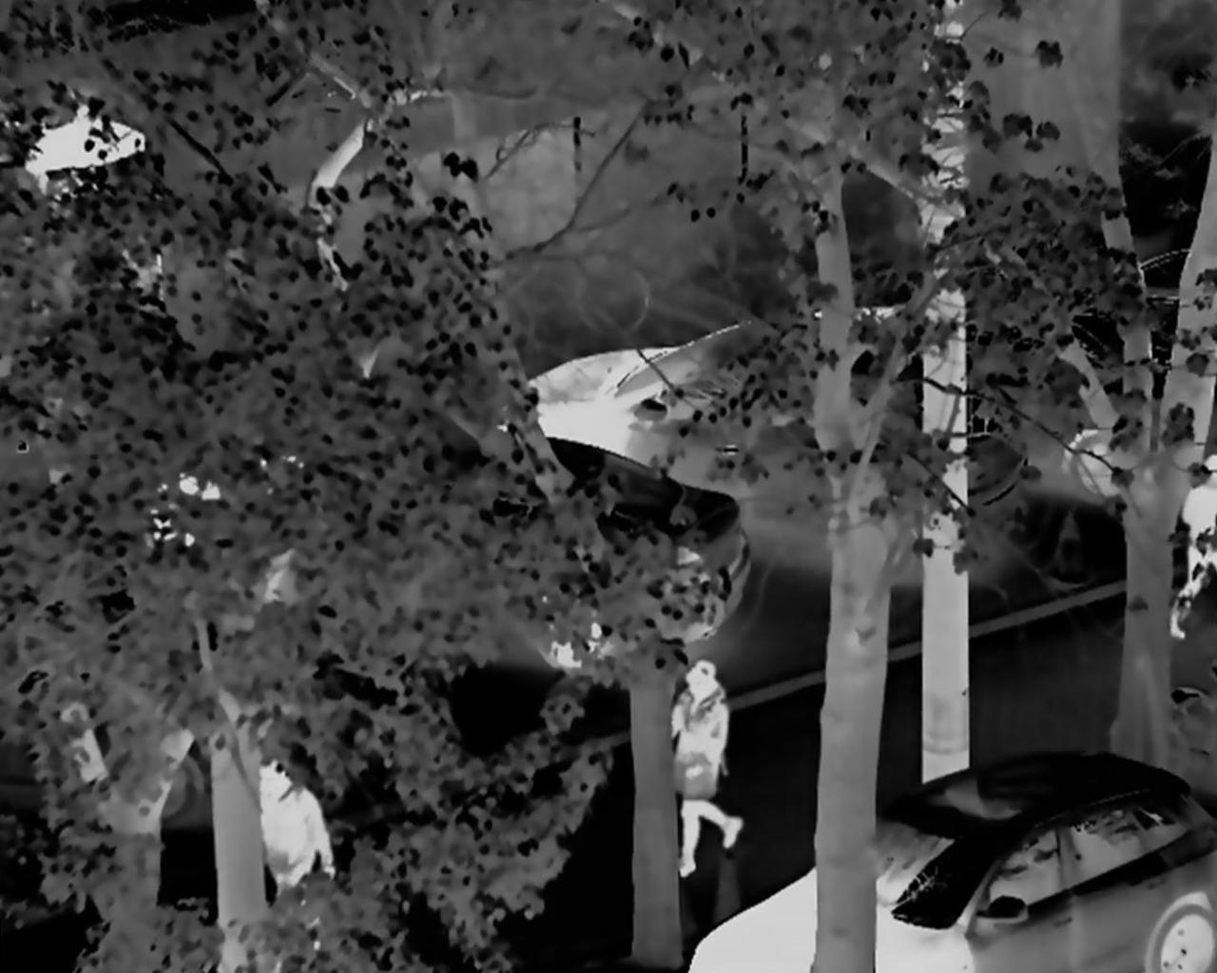person: (664, 651, 751, 882), (257, 763, 343, 931), (1153, 457, 1217, 647)
